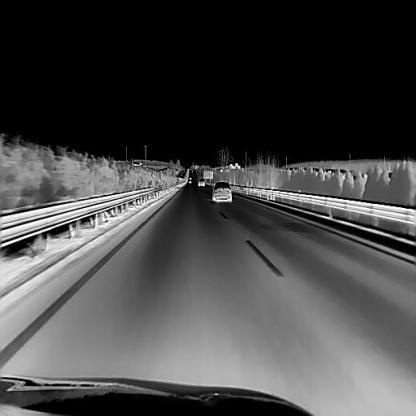car: (211, 180, 232, 201), (197, 176, 204, 186)
